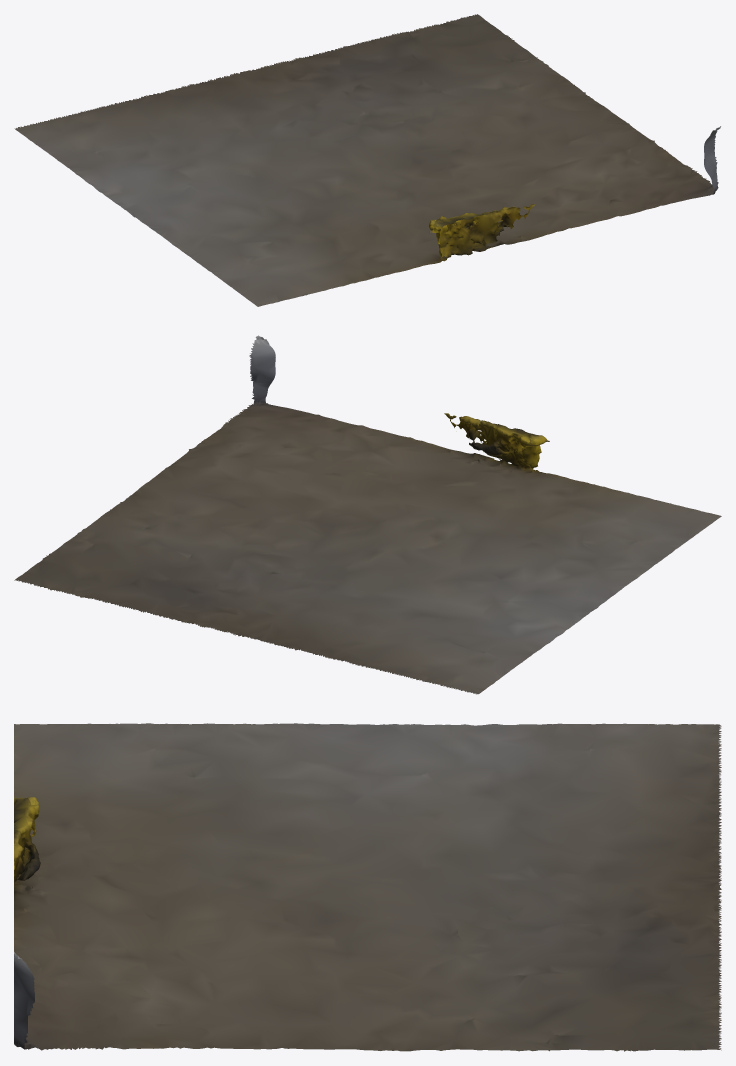
The model's file is medium.glb.
3 renders of one model, top to bottom at view 1: azimuth 30°, elevation 25°; view 2: azimuth 150°, elevation 25°; view 3: azimuth 270°, elevation 25°, orthographic. The views are drawn at different scales.
Size of the model in its own units: 2.04 by 0.2867 by 1.85.
